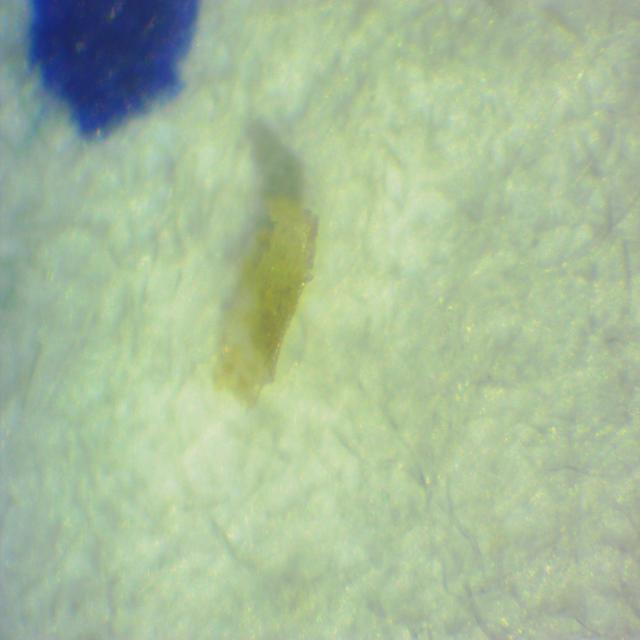microplastic: (213, 196, 320, 412)
